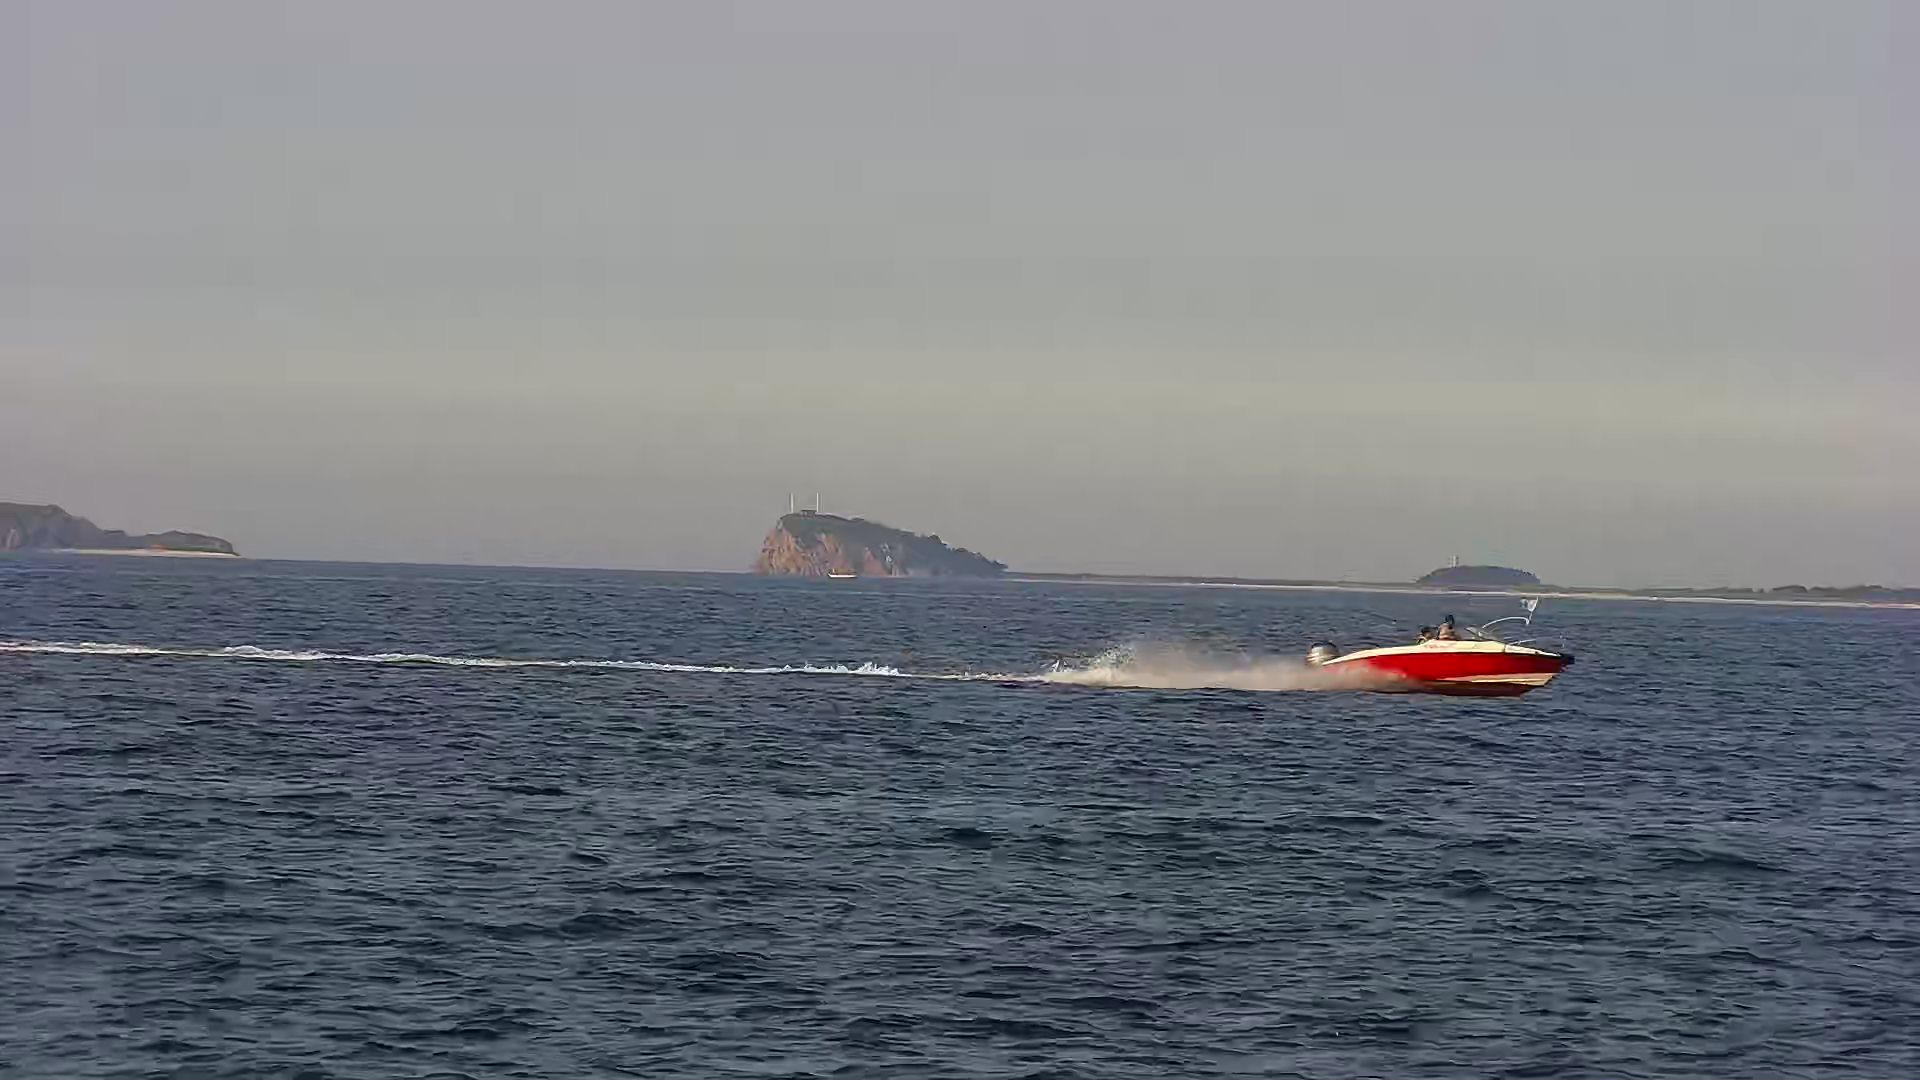boat: (1302, 591, 1589, 711)
rock: (746, 467, 1026, 608), (1, 483, 251, 564), (1400, 545, 1549, 620)
